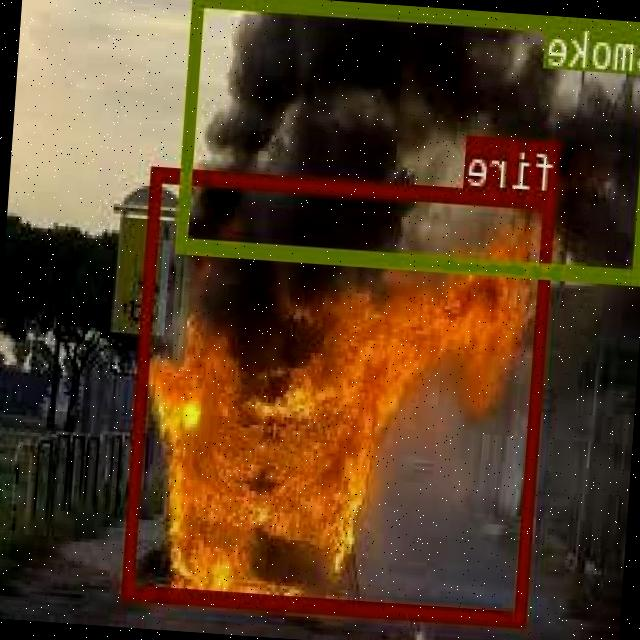fire: (124, 166, 556, 624)
smoke: (179, 0, 640, 279)
